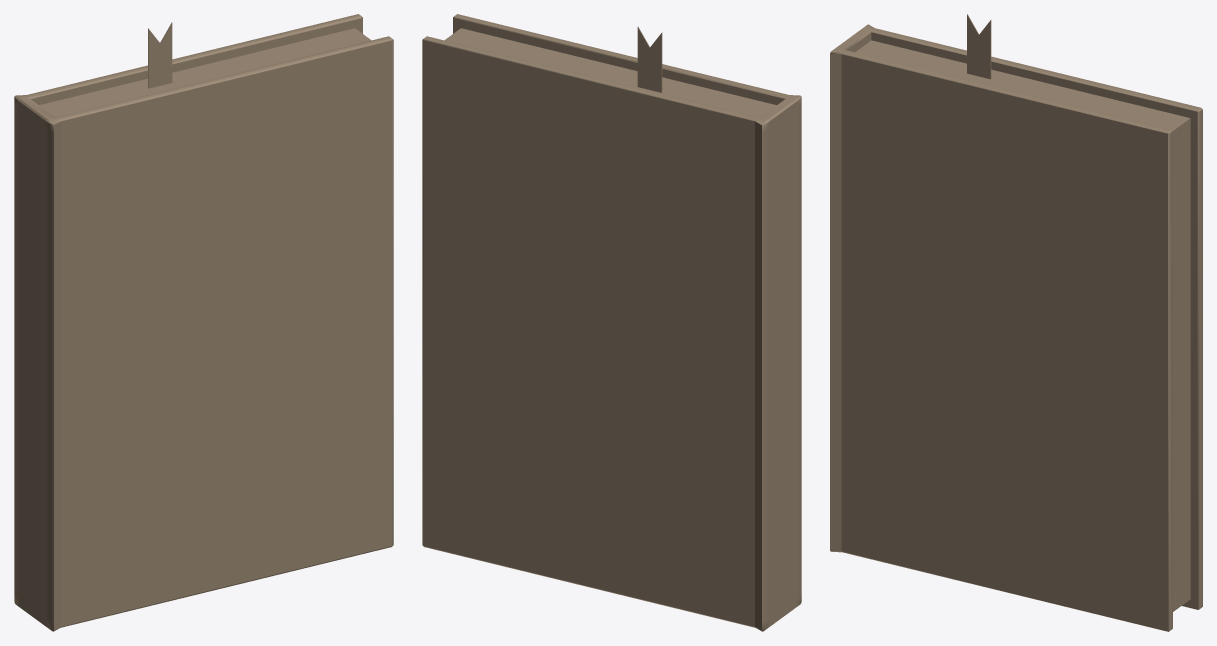
File: Book03.fbx
3 views of the same model, side by side, from view 1: azimuth 30°, elevation 25°; view 2: azimuth 150°, elevation 25°; view 3: azimuth 330°, elevation 25° (orthographic).
Visible parts, largest first — view 1: Book03, polySurface681; view 2: Book03, polySurface681; view 3: Book03, polySurface681.
Boxes of the visible parts, box(x1,y1,x2,y2) form: Book03: box(14, 14, 393, 631); polySurface681: box(148, 22, 172, 88); Book03: box(422, 14, 801, 631); polySurface681: box(637, 26, 662, 92); Book03: box(830, 24, 1202, 631); polySurface681: box(967, 14, 991, 79).
Size of the model in its own units: 0.2404 by 0.3732 by 0.0476.
